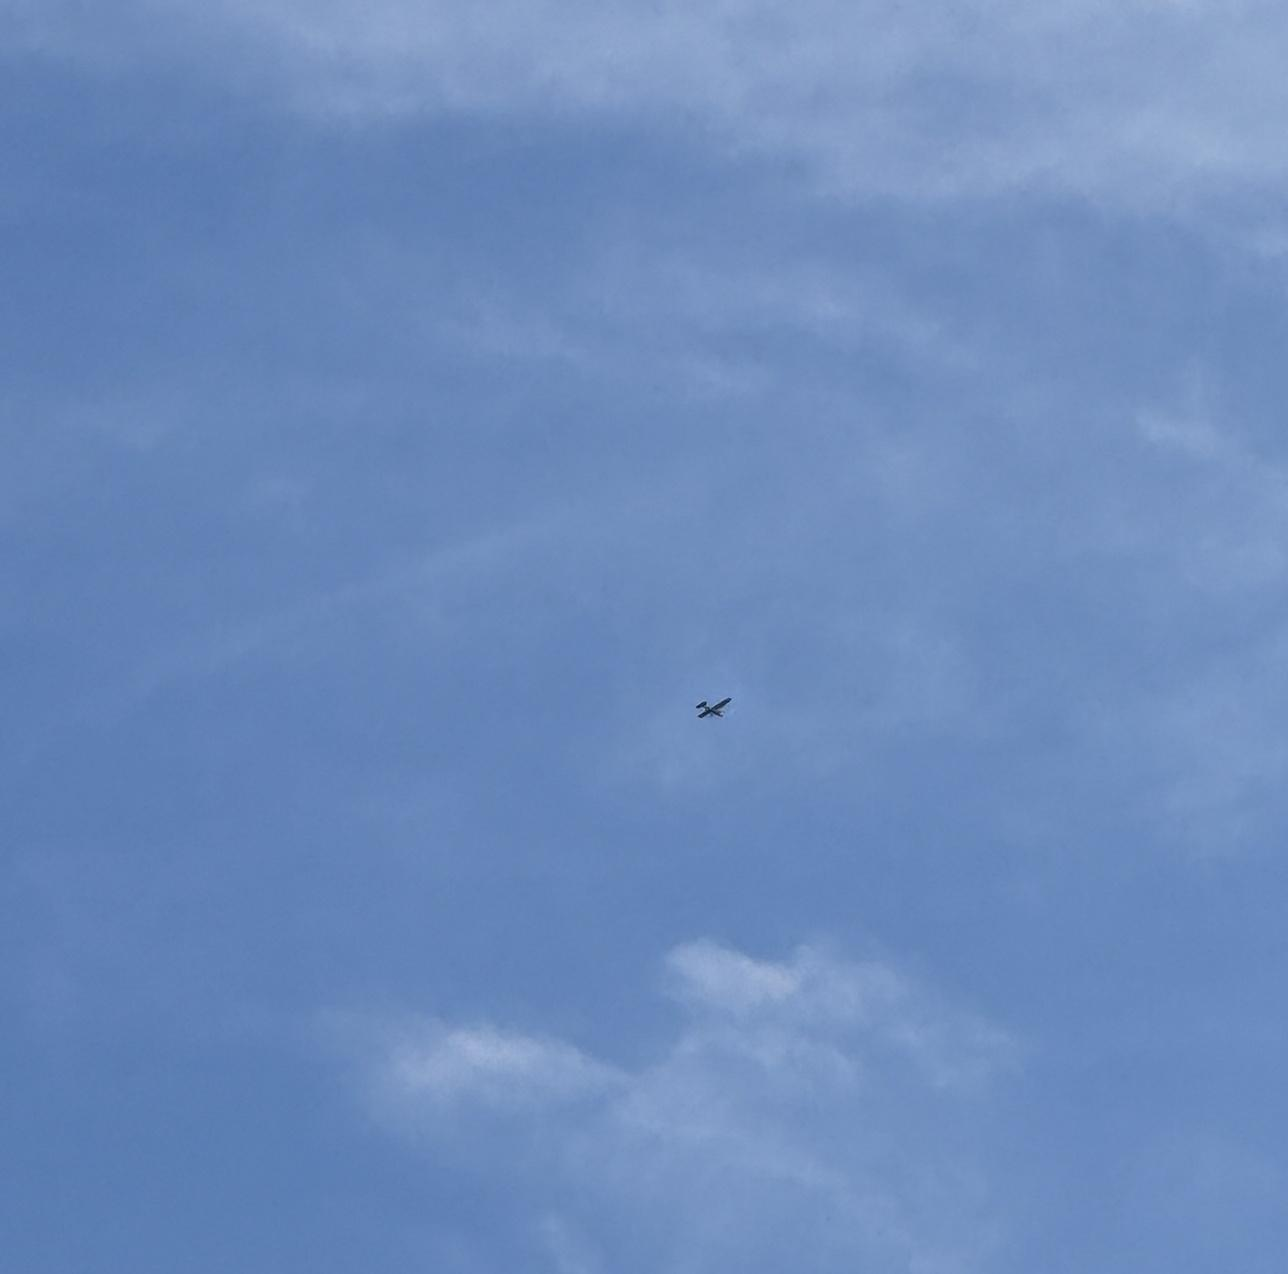Plane: (674, 675, 754, 740)
